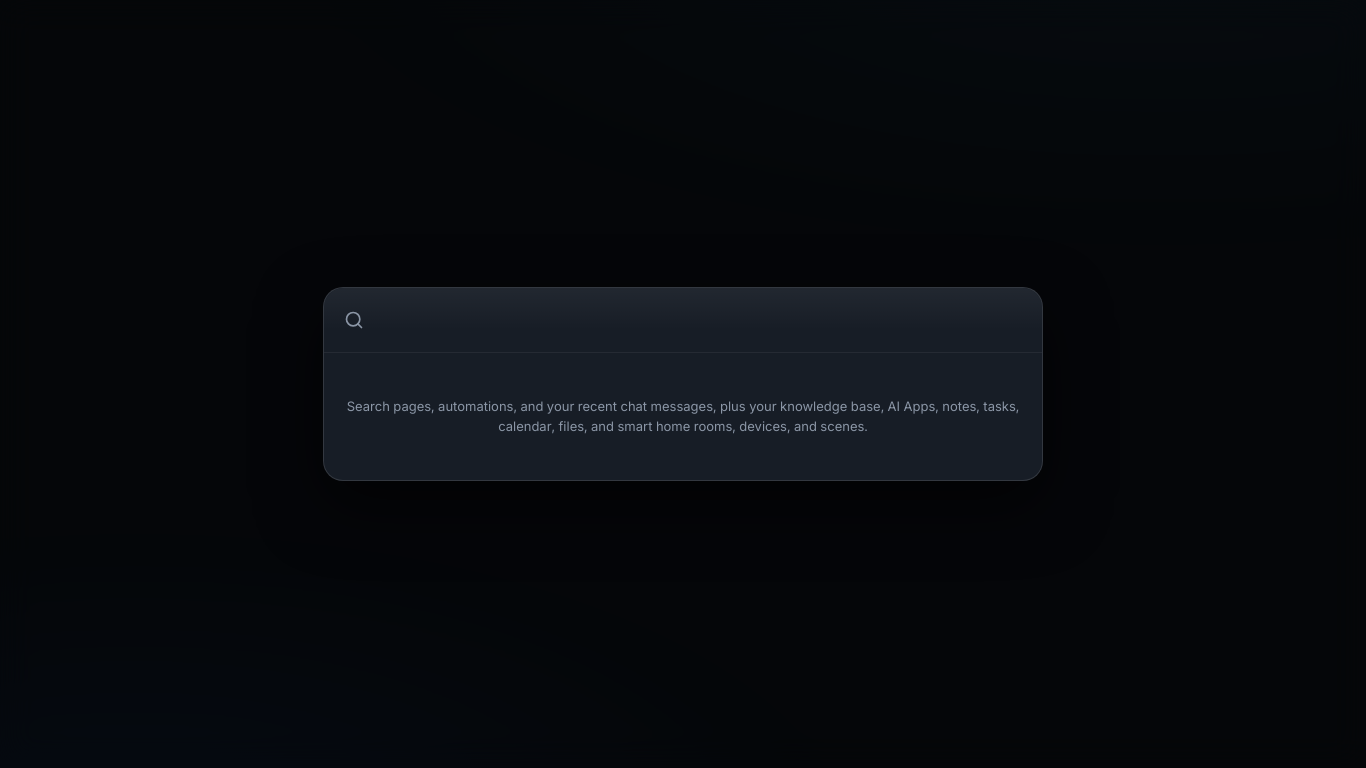
UniversalSearch › renders grouped, categorized results for a query
Type "br" into the dropdown named "search" at (699, 320), box [376,288,1022,352]
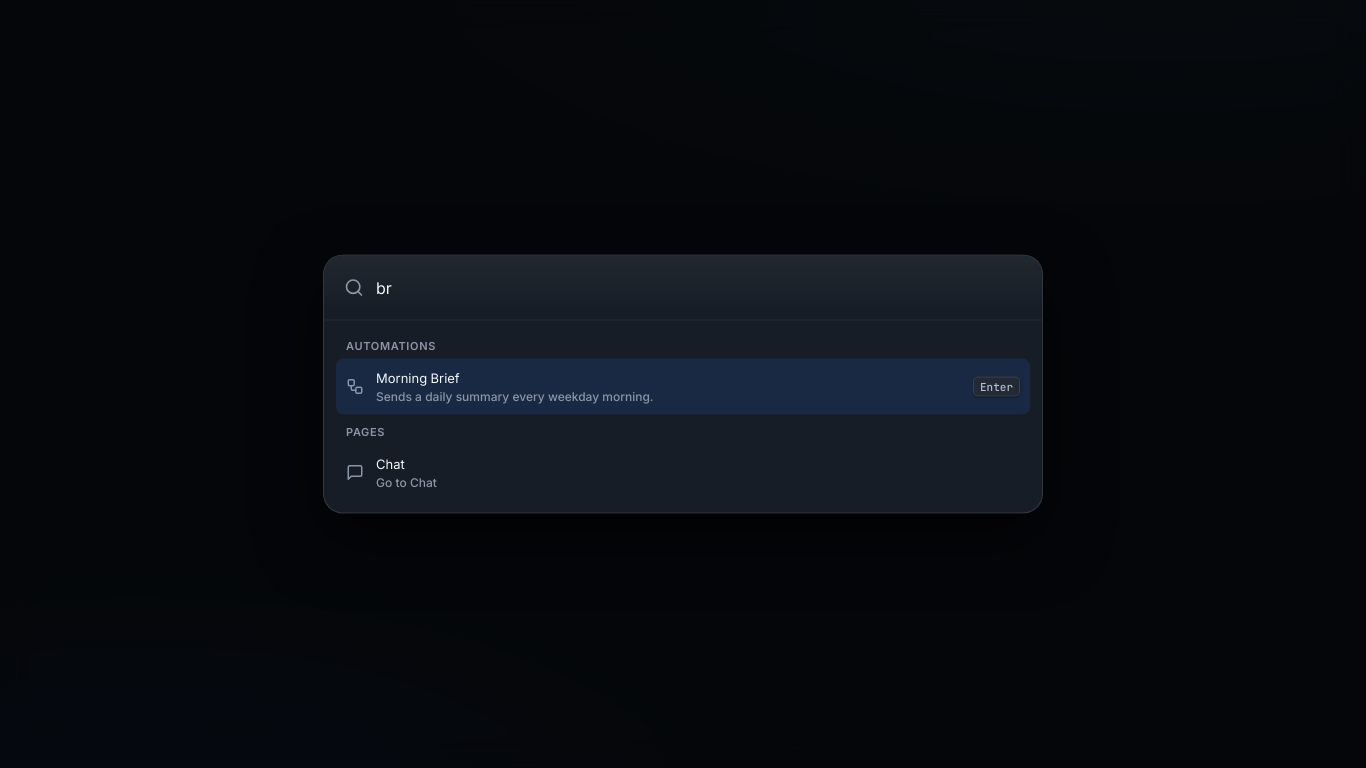
Expected: the text "Automations" is shown, [346,338,436,352]
Now the option with test id "search-result-automation-auto-1" is shown, box [336,359,1030,414]
Now the option with test id "search-result-app-chat" is shown, box [346,456,437,489]
